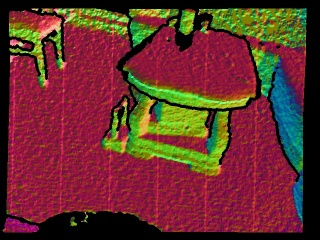station: (101, 96, 131, 155)
